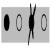correct: (4, 12, 10, 34)
no answer: (16, 12, 22, 35)
not correct: (27, 1, 36, 47)
